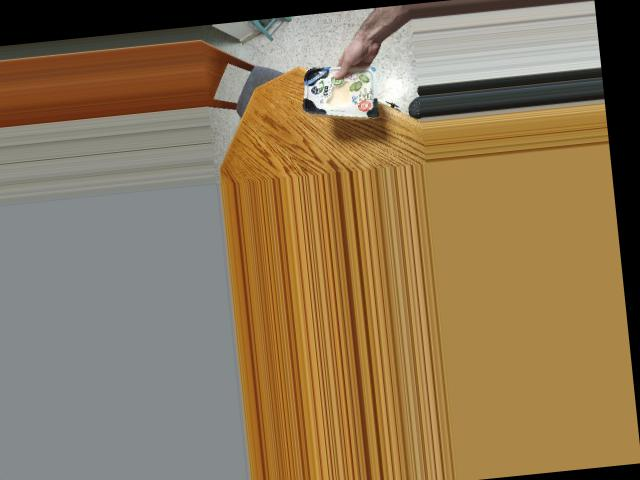cheese: (299, 53, 381, 124)
